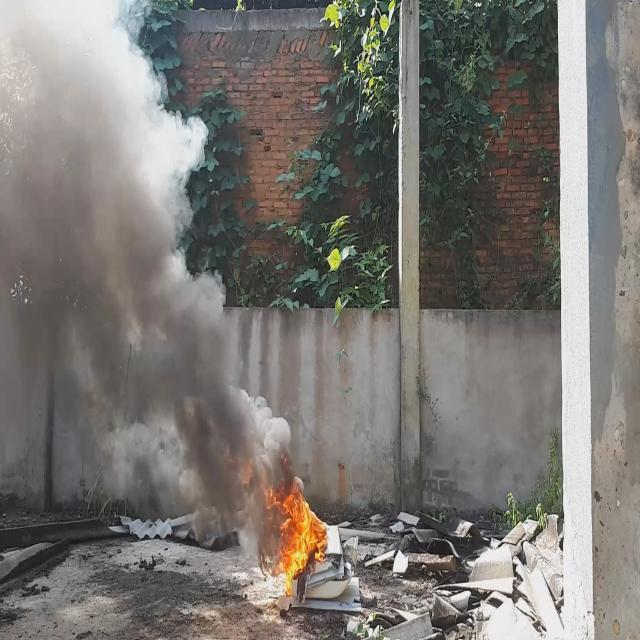Fire: (261, 474, 329, 600)
Smoke: (0, 0, 293, 546)
